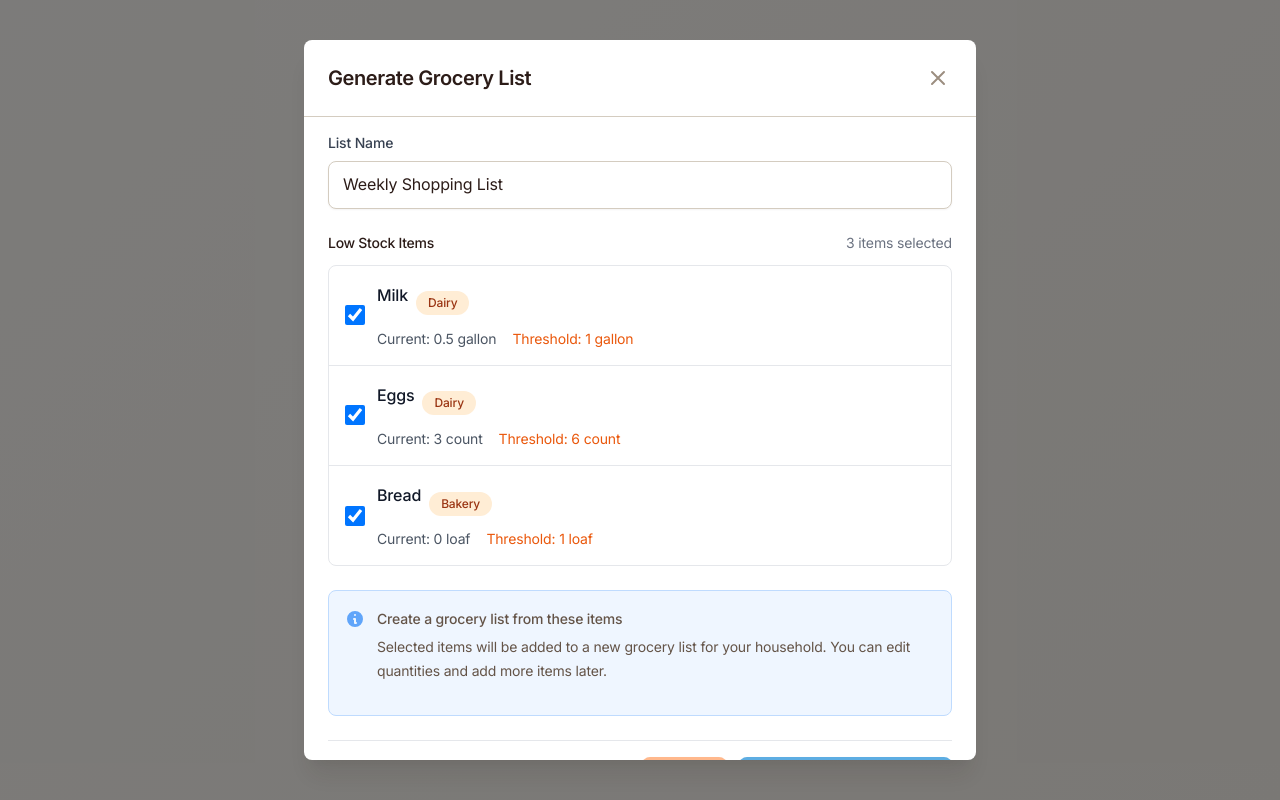
it: GenerateGroceryListModal › should show count of selected items
Expected: the text "3 items selected" is shown, x1=846 y1=233 x2=952 y2=253
# Uncheck one item
Click the checkbox labelled "Milk Dairy Current: 0.5 gallon Threshold: 1 gallon".
click(355, 315)  # box x1=345 y1=305 x2=365 y2=325
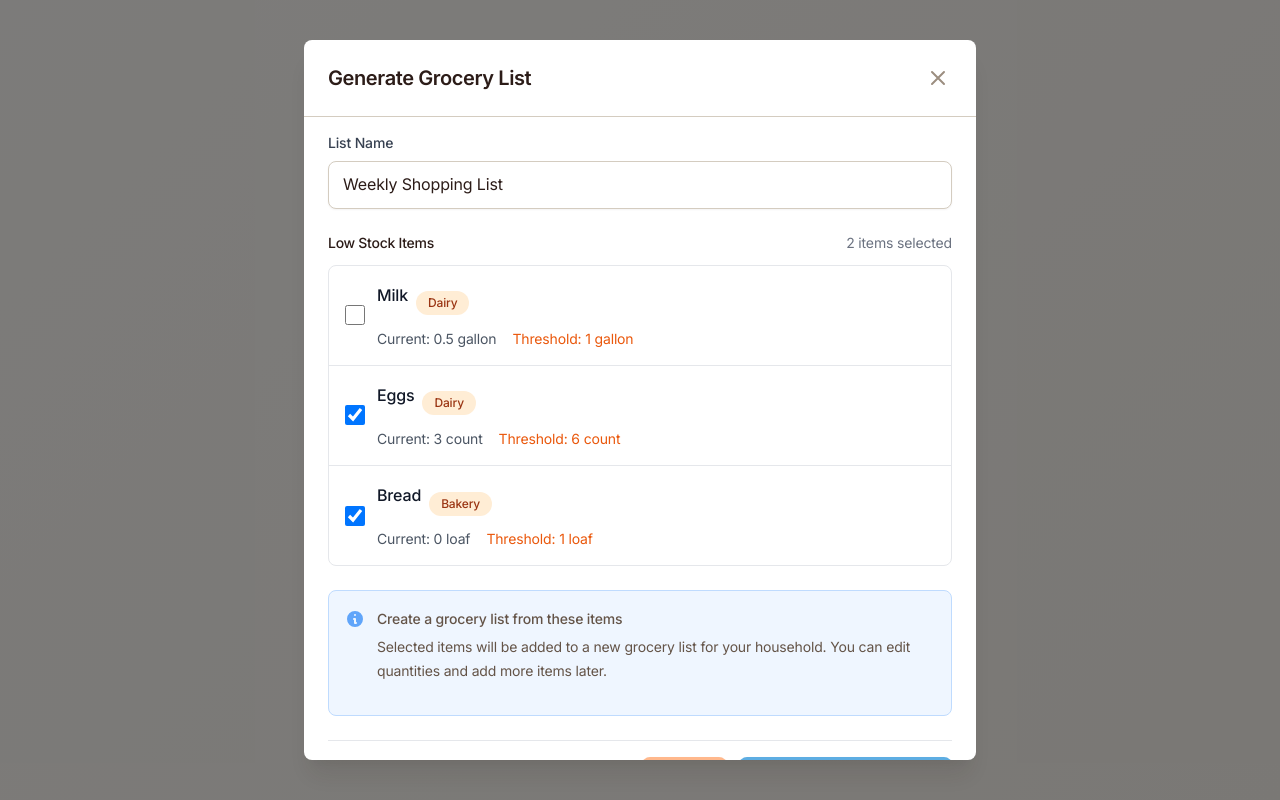
Now the text "2 items selected" is shown, box x1=846 y1=233 x2=952 y2=253
